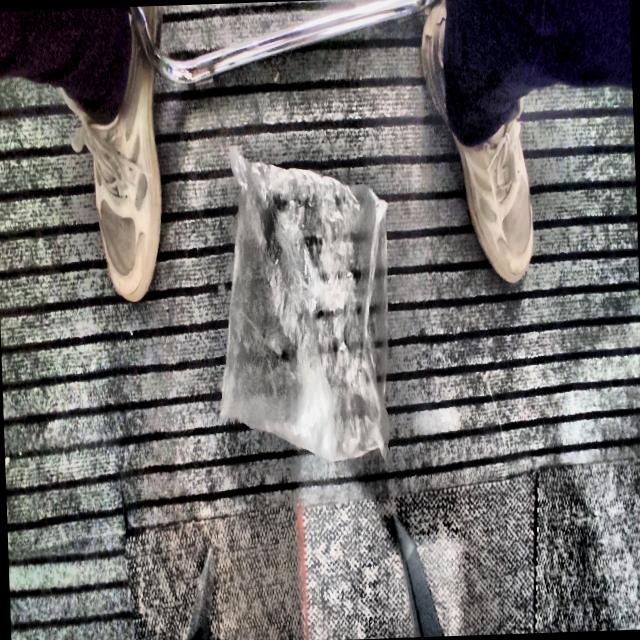plastic bag: (220, 146, 389, 459)
